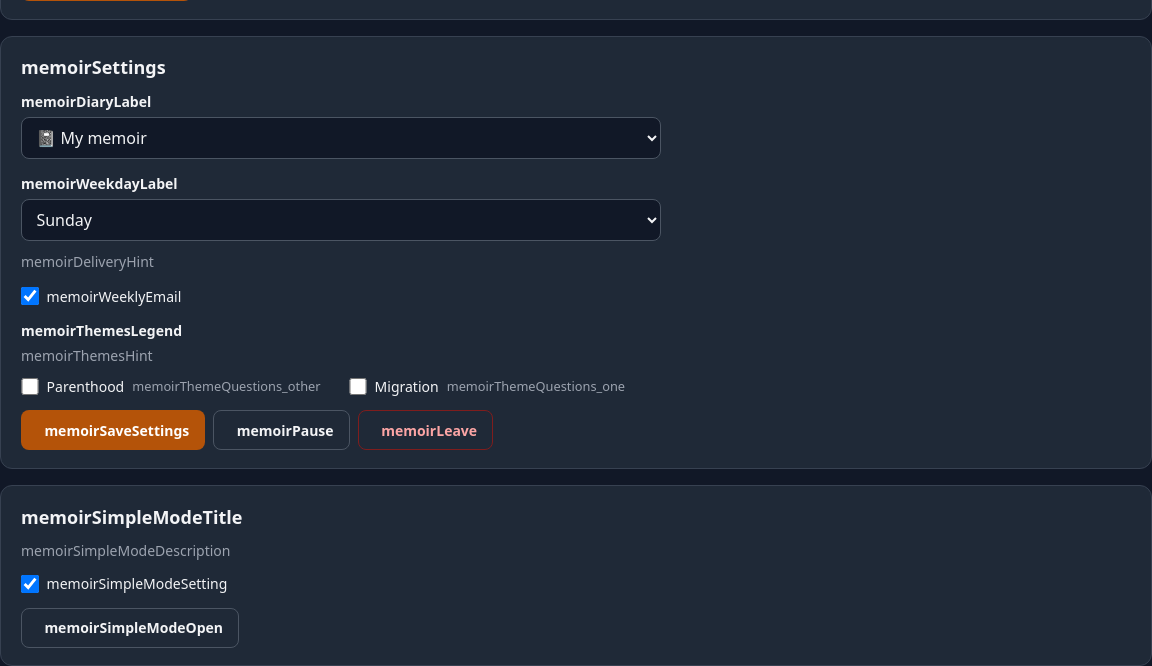
MemoirPage simple mode › shows the setting on while simple mode is on, and turns it off when the memoir stops
(page scrolled)
Expected: the checkbox labelled "memoirSimpleModeSetting" is checked, [21,575,39,592]
Step 1. Click the button "memoirLeave" → (426, 430), box [358,410,493,450]
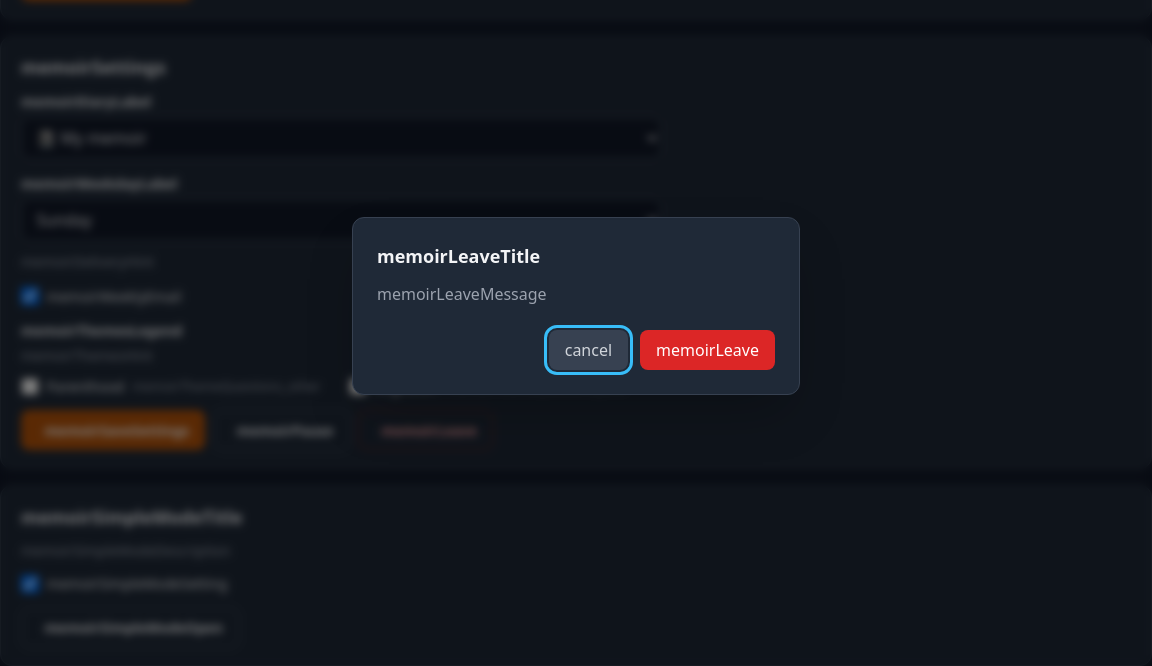
Step 2. Click the button "memoirLeave" → (708, 350), box [640,330,775,370]
(page scrolled)
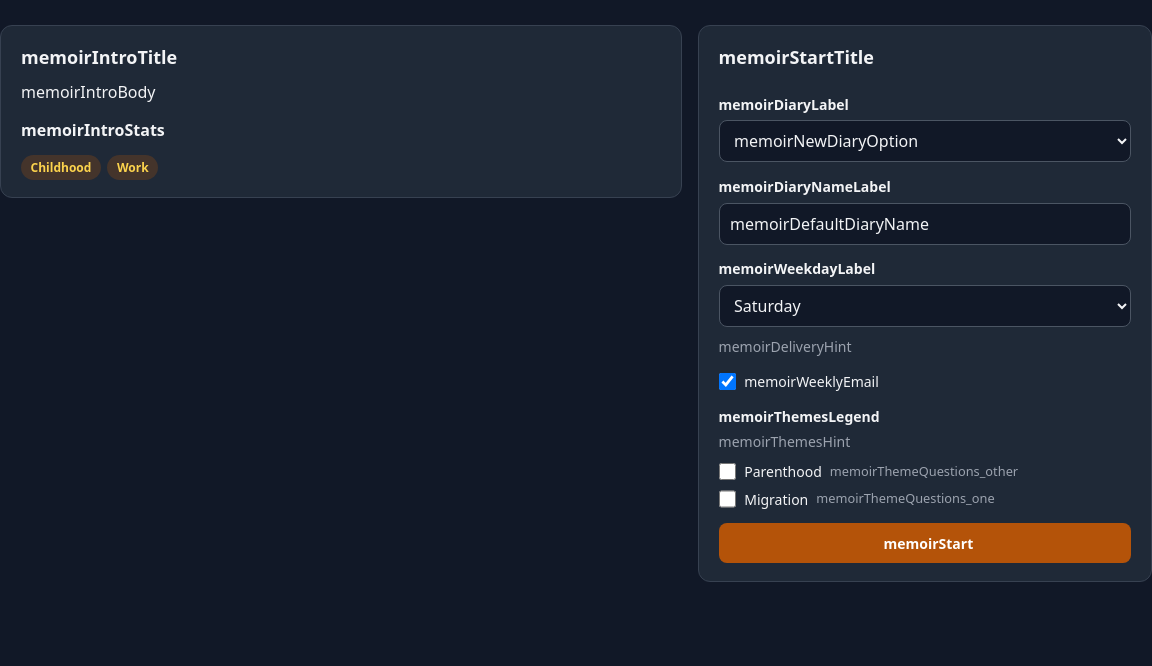
Expected: the heading "memoirIntroTitle" is shown, [21,45,177,69]
Expected: the heading "memoirSimpleModeTitle" is gone
